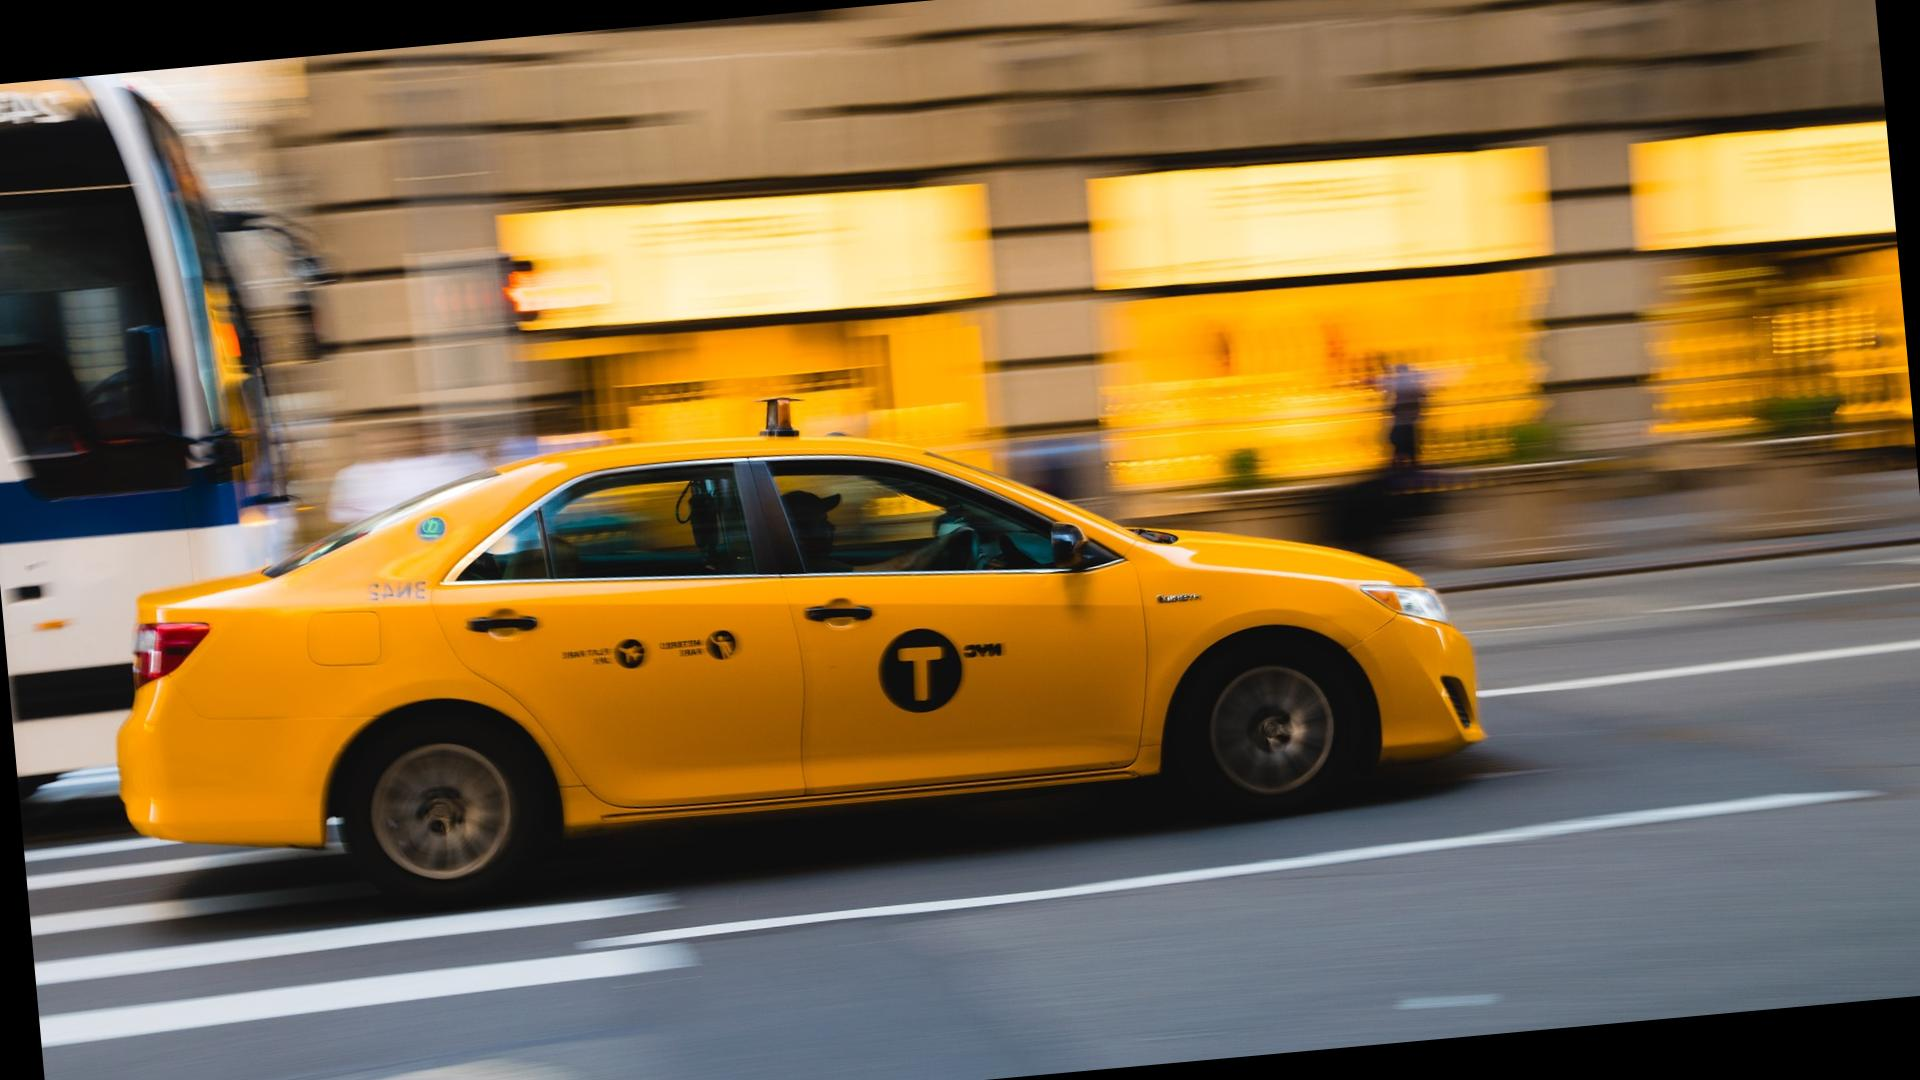taxi: (103, 376, 1511, 947)
